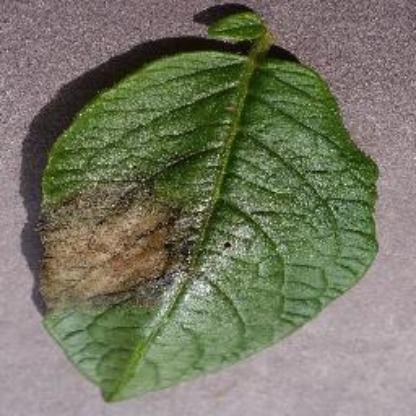Late-Blight: (12, 10, 394, 406)
